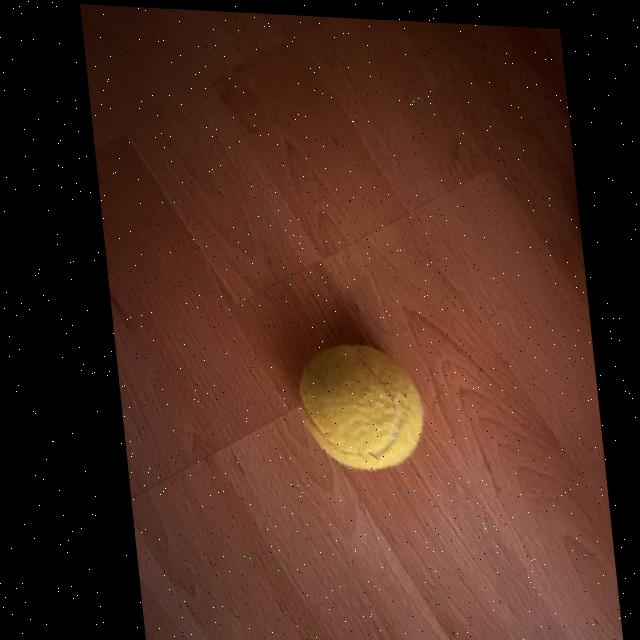Tennisball: (300, 345, 423, 470)
